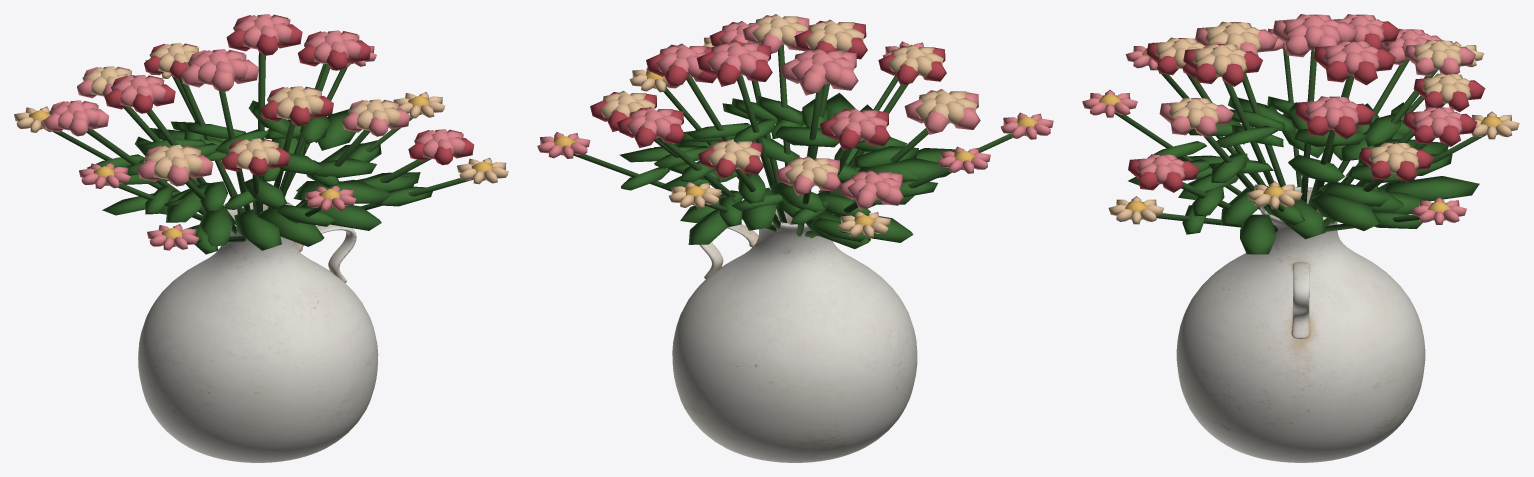
File: table-low-floral.glb
The picture shows the model from 3 angles, left to right: view 1: azimuth 30°, elevation 25°; view 2: azimuth 150°, elevation 25°; view 3: azimuth 270°, elevation 25°; orthographic projection. The views are drawn at different scales.
Parts seen in each view (by area): view 1: CC0_Vase_01, BS_CollarLeaf_12, BS_CollarLeaf_13, BS_CollarLeaf_14, BS_CollarLeaf_15, BS_CollarLeaf_11, BS_RoseLeafA_06, BS_CollarLeaf_10, BS_CollarLeaf_01, BS_FillerLeaf_02, BS_RoseLeafA_02, BS_RoseStem_10 (+10 smaller); view 2: CC0_Vase_01, BS_CollarLeaf_10, BS_RoseLeafA_03, BS_CollarLeaf_04, BS_RoseStem_05, BS_RoseLeafA_00, BS_CollarLeaf_05, BS_RoseLeafA_12, BS_RoseLeafA_06, BS_RoseLeafA_09, BS_CollarLeaf_01, BS_RoseLeafA_07 (+7 smaller); view 3: CC0_Vase_01, BS_CollarLeaf_04, BS_CollarLeaf_01, BS_CollarLeaf_17, BS_RoseLeafA_07, BS_RoseLeafA_08, BS_CollarLeaf_00, BS_CollarLeaf_16, BS_RoseLeafA_12, BS_RoseLeafA_04, BS_RoseLeafA_05, BS_RoseLeafA_06 (+14 smaller).
Part boxes in pixels (x1,y1,x2,y2): CC0_Vase_01: (138, 202, 378, 462); BS_CollarLeaf_12: (234, 209, 281, 250); BS_CollarLeaf_13: (257, 208, 324, 246); BS_CollarLeaf_14: (297, 200, 381, 230); BS_CollarLeaf_15: (296, 181, 391, 203); BS_CollarLeaf_11: (200, 207, 232, 246); BS_RoseLeafA_06: (315, 158, 376, 177); BS_CollarLeaf_10: (166, 186, 206, 222); BS_CollarLeaf_01: (317, 109, 355, 150); BS_FillerLeaf_02: (275, 204, 334, 226); BS_RoseLeafA_02: (243, 178, 286, 209); BS_RoseStem_10: (179, 78, 243, 213); CC0_Vase_01: (672, 209, 917, 462); BS_CollarLeaf_10: (858, 158, 946, 179); BS_RoseLeafA_03: (773, 126, 838, 147); BS_CollarLeaf_04: (688, 210, 727, 244); BS_RoseStem_05: (737, 75, 787, 222); BS_RoseLeafA_00: (852, 146, 918, 167); BS_CollarLeaf_05: (742, 187, 776, 230); BS_RoseLeafA_12: (776, 184, 825, 212); BS_RoseLeafA_06: (755, 96, 803, 125); BS_RoseLeafA_09: (817, 192, 870, 216); BS_CollarLeaf_01: (619, 146, 707, 162); BS_RoseLeafA_07: (686, 123, 750, 139); CC0_Vase_01: (1176, 187, 1425, 462); BS_CollarLeaf_04: (1384, 176, 1479, 201); BS_CollarLeaf_01: (1310, 192, 1380, 230); BS_CollarLeaf_17: (1240, 214, 1275, 254); BS_RoseLeafA_07: (1288, 155, 1344, 183); BS_RoseLeafA_08: (1322, 183, 1388, 206); BS_CollarLeaf_00: (1279, 199, 1325, 239); BS_CollarLeaf_16: (1221, 186, 1268, 224); BS_RoseLeafA_12: (1364, 113, 1400, 146); BS_RoseLeafA_04: (1216, 125, 1277, 147); BS_RoseLeafA_05: (1291, 129, 1365, 146); BS_RoseLeafA_06: (1211, 153, 1247, 182).
Bounding box in the file's own units: 0.2726 × 0.277 × 0.2726.
7 materials, 1 textured.
